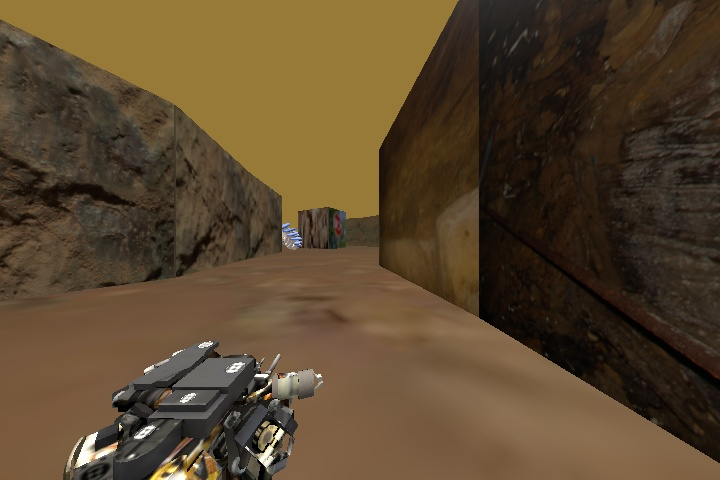mushroom: (279, 221, 306, 252)
sign: (333, 211, 342, 238)
